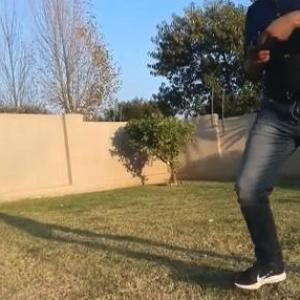follow: (228, 0, 299, 297)
